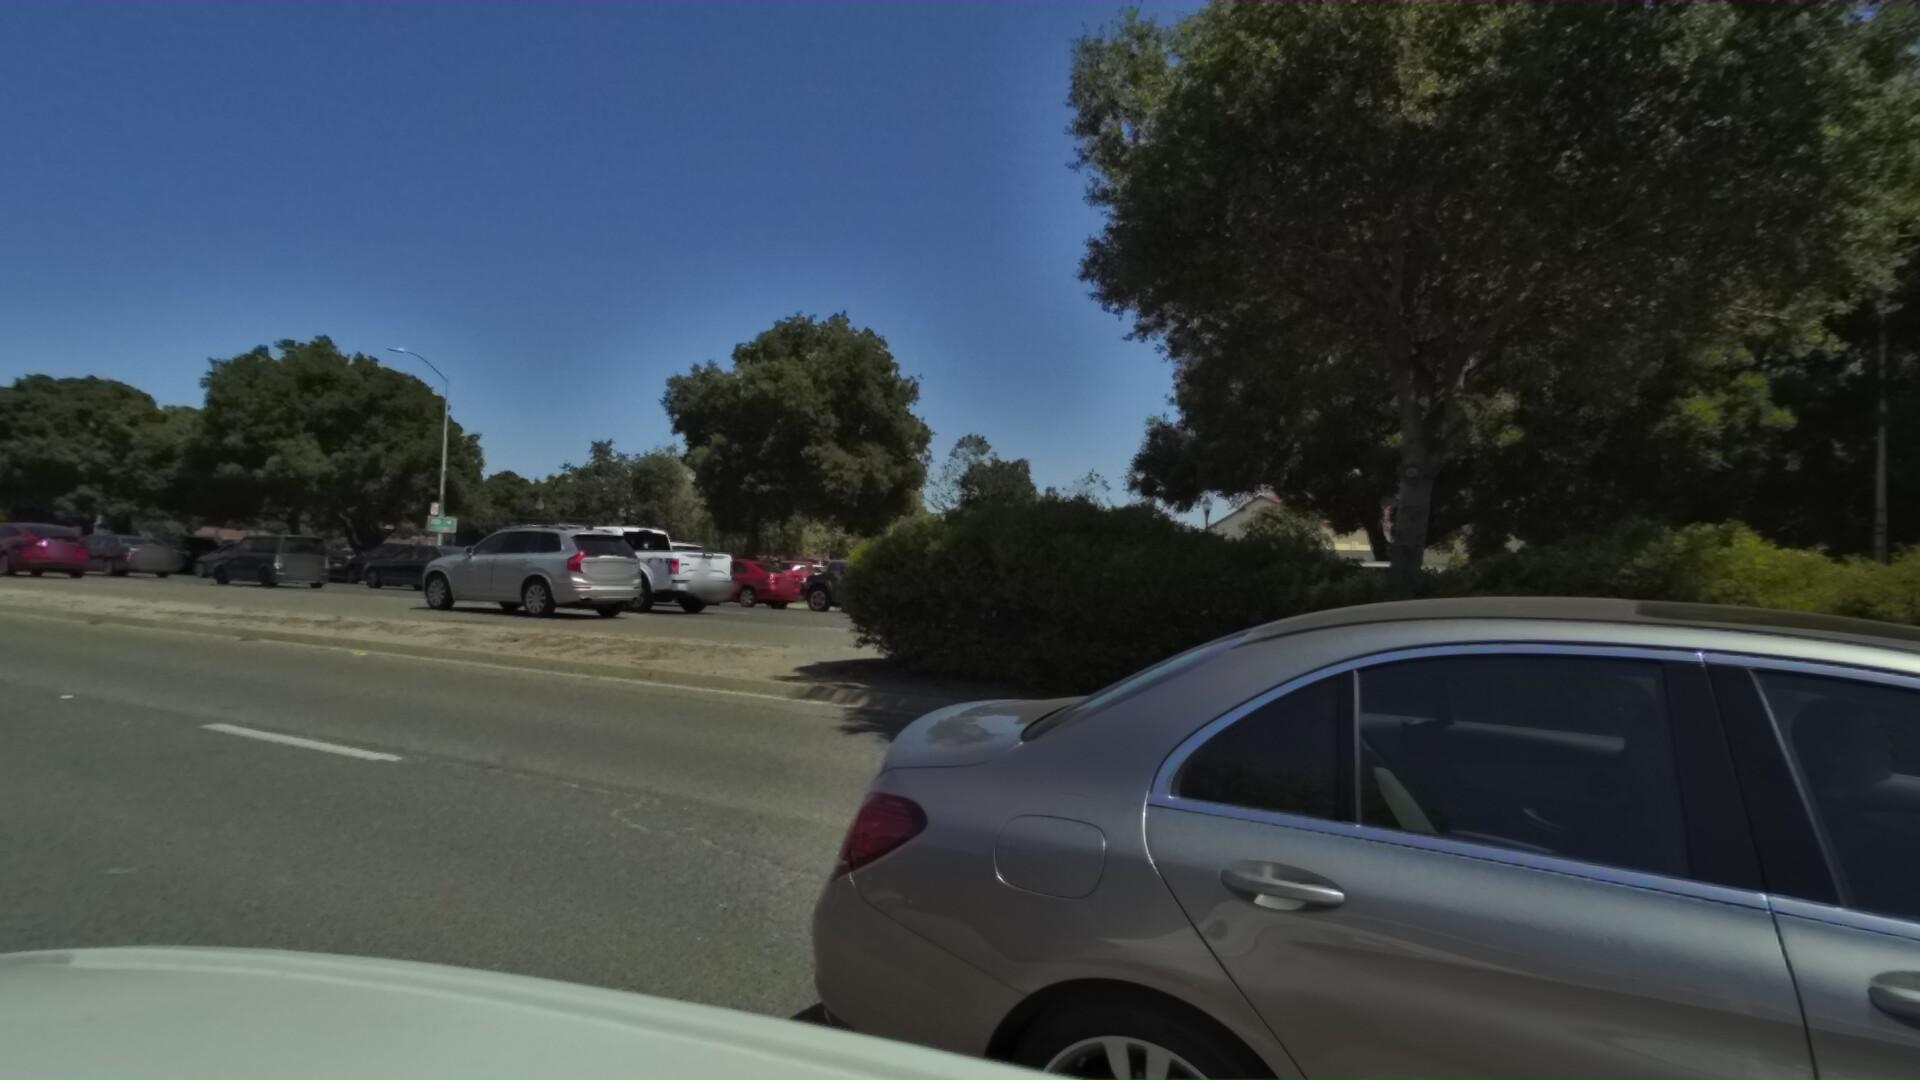car: (1262, 520, 1705, 708), (392, 512, 640, 620), (476, 521, 728, 616), (775, 543, 952, 625), (535, 534, 717, 608), (641, 556, 794, 615), (347, 539, 496, 592), (200, 531, 331, 589), (328, 539, 448, 591), (171, 537, 290, 585), (61, 535, 179, 580), (240, 542, 353, 585), (120, 531, 222, 579)
